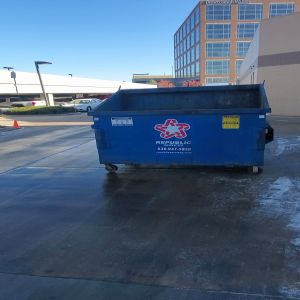Dumpster: (90, 87, 276, 174)
